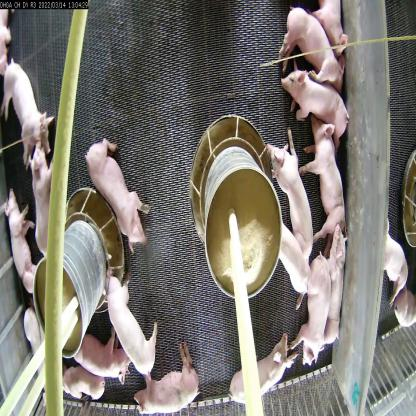Pig: (79, 126, 154, 256), (262, 118, 316, 274), (296, 105, 353, 248), (105, 260, 162, 390), (274, 0, 345, 91), (274, 65, 352, 144), (226, 330, 300, 413), (131, 336, 204, 416), (4, 55, 51, 167), (291, 250, 330, 376), (68, 324, 141, 387), (0, 183, 39, 300), (29, 138, 62, 268), (320, 219, 346, 352), (279, 211, 312, 311), (381, 211, 411, 312)
